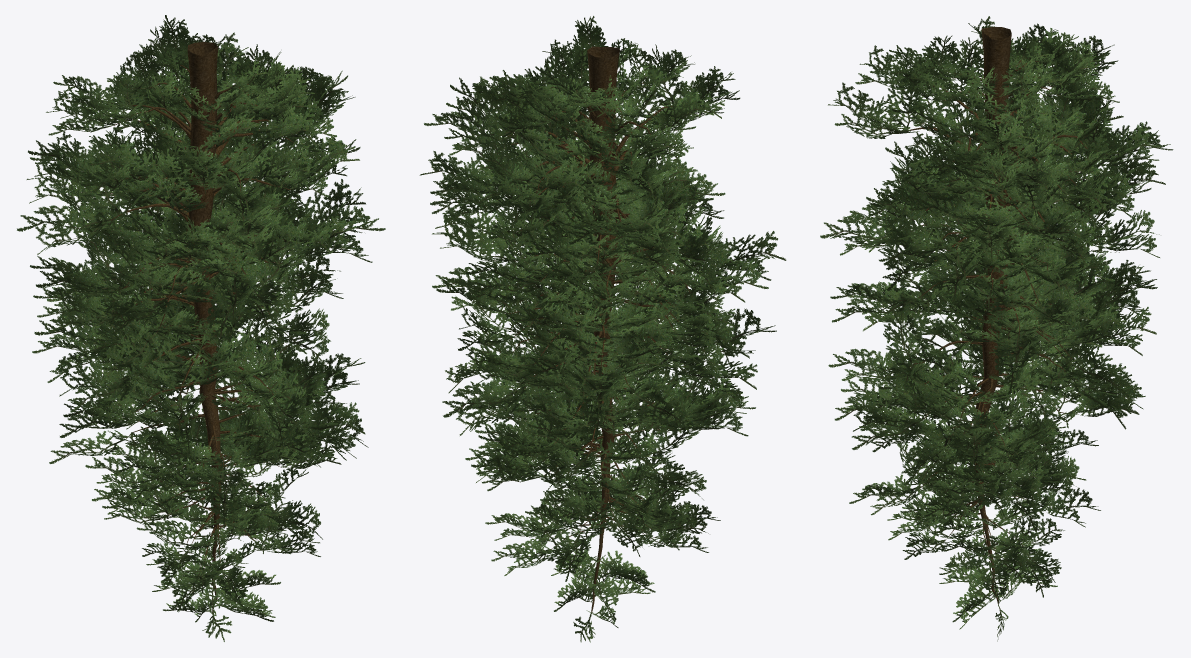
Rendered from largeFirTree.obj.
3 renders of one model, left to right at view 1: azimuth 30°, elevation 25°; view 2: azimuth 150°, elevation 25°; view 3: azimuth 270°, elevation 25°, orthographic.
Visible parts, largest first — view 1: Christmas_tree_LOD0_Brunches_Mat_0, Christmas_tree_LOD0_Bark_Mat_0; view 2: Christmas_tree_LOD0_Brunches_Mat_0, Christmas_tree_LOD0_Bark_Mat_0; view 3: Christmas_tree_LOD0_Brunches_Mat_0, Christmas_tree_LOD0_Bark_Mat_0.
Part boxes in pixels (box(x1,y1,x2,y2)): Christmas_tree_LOD0_Brunches_Mat_0: box(17, 15, 385, 641); Christmas_tree_LOD0_Bark_Mat_0: box(110, 42, 293, 611); Christmas_tree_LOD0_Brunches_Mat_0: box(419, 16, 786, 642); Christmas_tree_LOD0_Bark_Mat_0: box(508, 46, 692, 612); Christmas_tree_LOD0_Brunches_Mat_0: box(820, 16, 1173, 641); Christmas_tree_LOD0_Bark_Mat_0: box(900, 27, 1087, 603).
Bounding box in the file's own units: 5.29 × 9.29 × 5.04.
